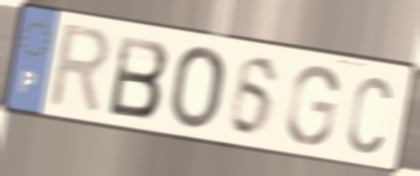6: (226, 54, 282, 139)
B: (106, 32, 172, 122)
C: (345, 72, 394, 157)
G: (283, 63, 342, 149)
O: (168, 44, 228, 132)
R: (43, 20, 114, 120)
